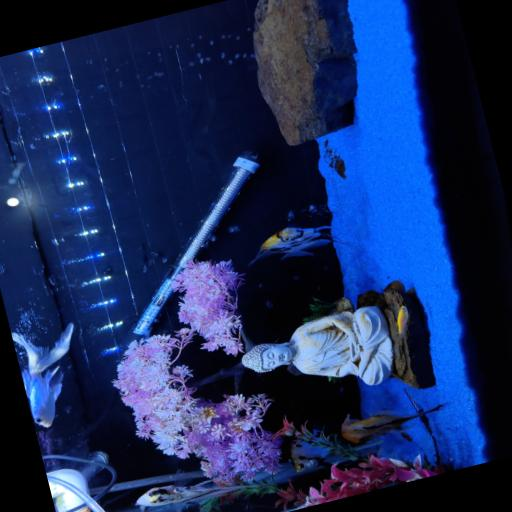Fish: (12, 324, 74, 427), (249, 226, 355, 265), (342, 406, 441, 443), (136, 479, 241, 507), (291, 441, 328, 472), (398, 306, 409, 338), (401, 432, 412, 441), (287, 210, 294, 221)
